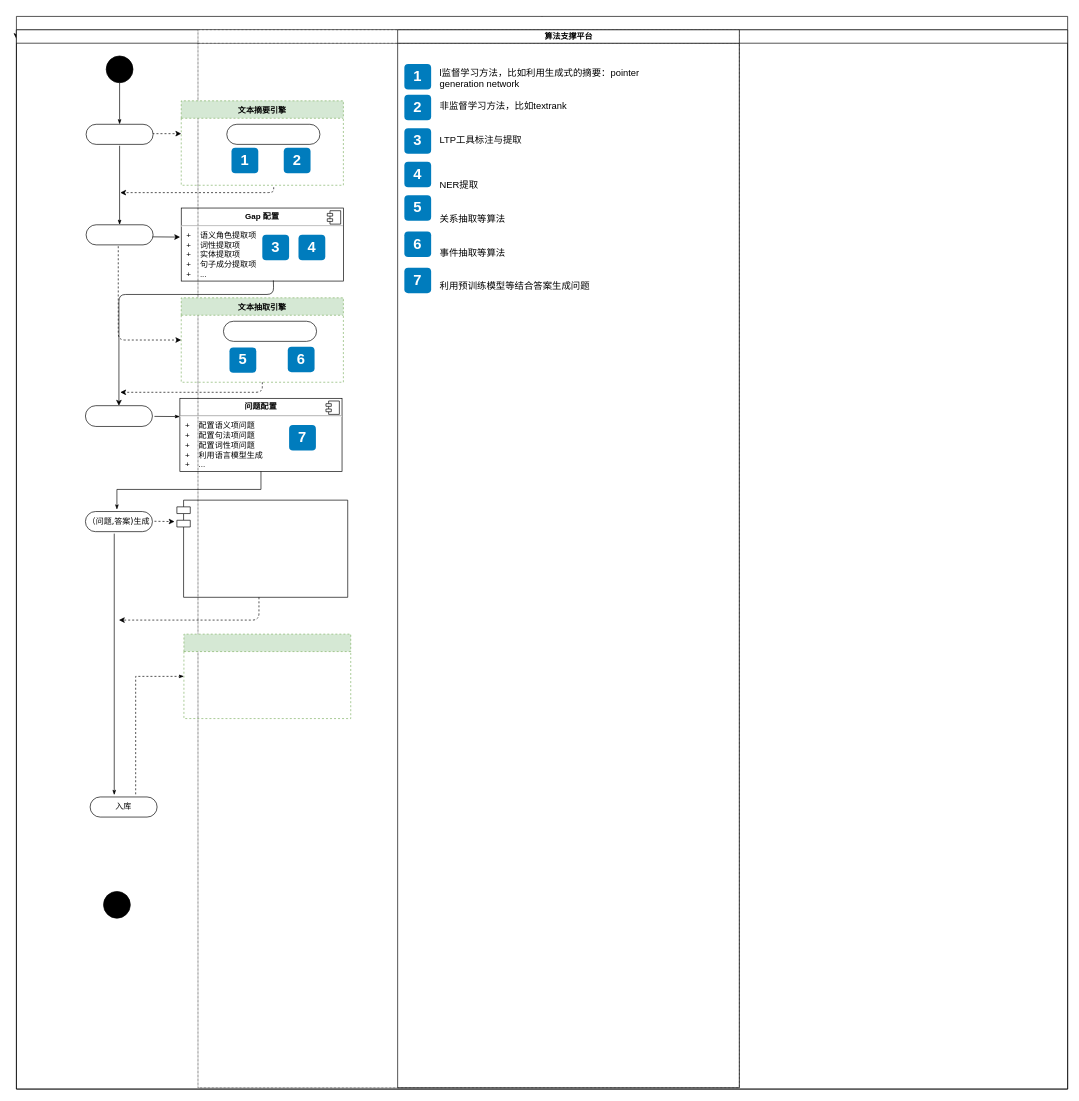
The diagram is 1079 pixels wide and 1101 high, and some of its shapes have lost their labels. Each missing label, with the centre of its shape:
Gap 定义: (119,234)
Gap 选择: (118,415)
关系/事件抽取: (270,331)
文本摘要/压缩: (273,134)
文本阅读器（可编辑）: (262,548)
文本预处理: (119,134)
端到端抽取引擎: (267,676)
